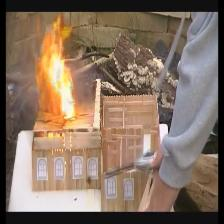fire: (37, 23, 80, 119)
